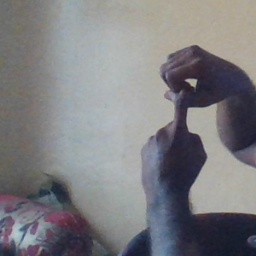Q: (137, 43, 233, 181)
